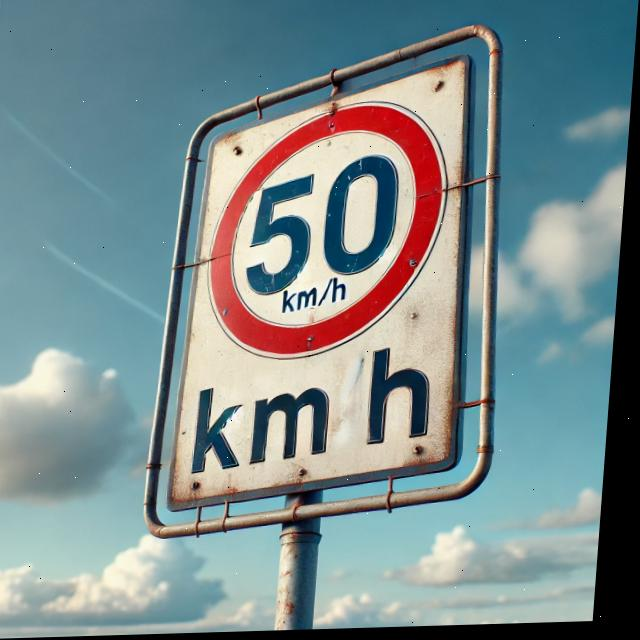Speed limit 50: (204, 99, 459, 365)
